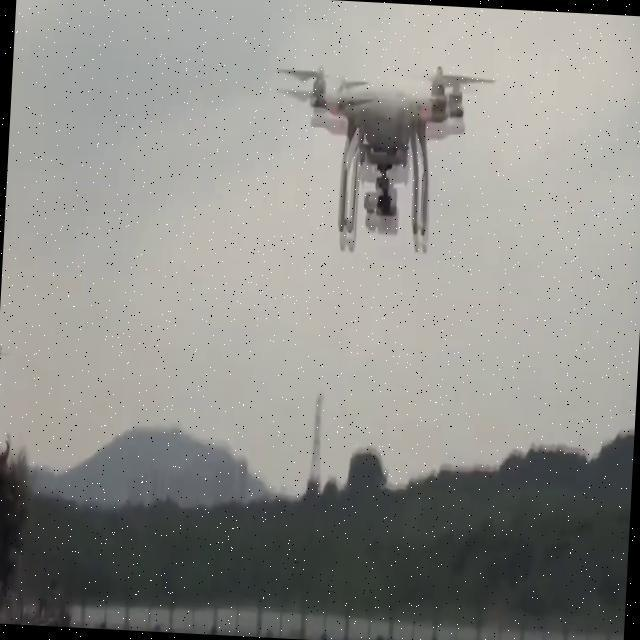Drons: (258, 46, 500, 256)
